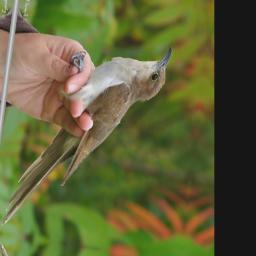Cuckoo: (2, 24, 175, 250)
